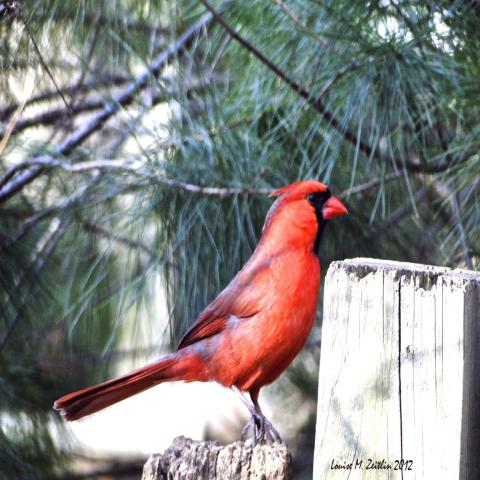bird: (52, 176, 348, 448)
